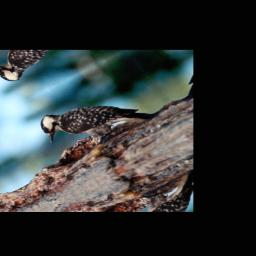Woodpecker: (28, 68, 164, 166)
